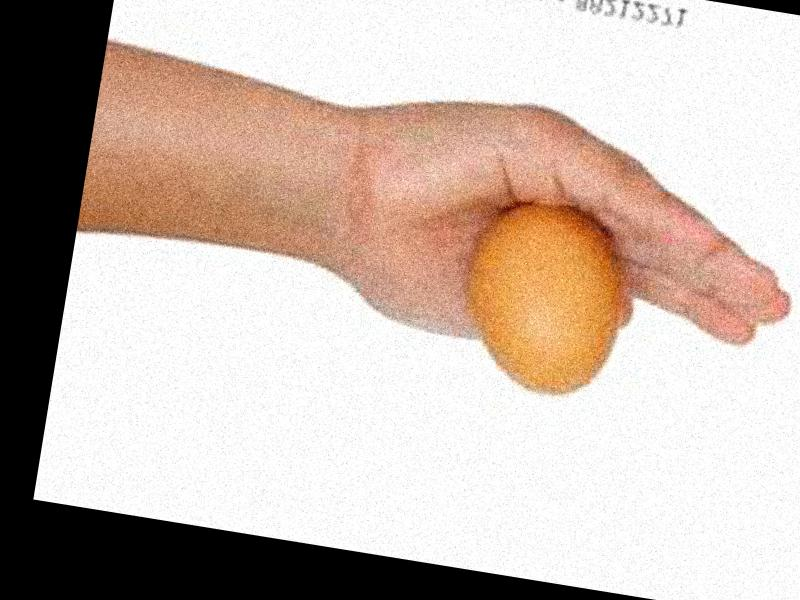Eggs: (453, 191, 636, 405)
